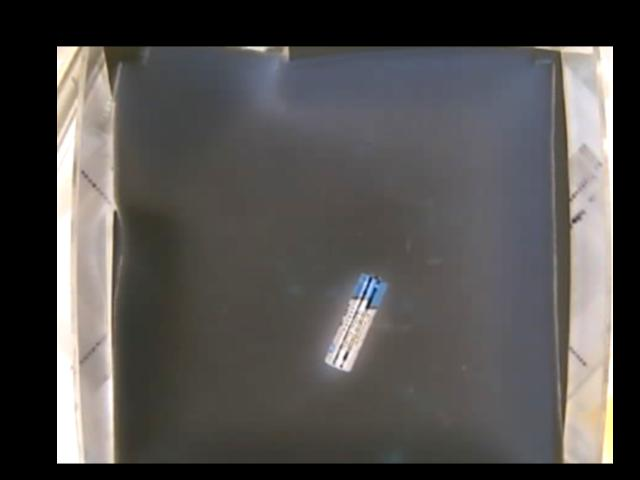Battery: (326, 274, 385, 370)
